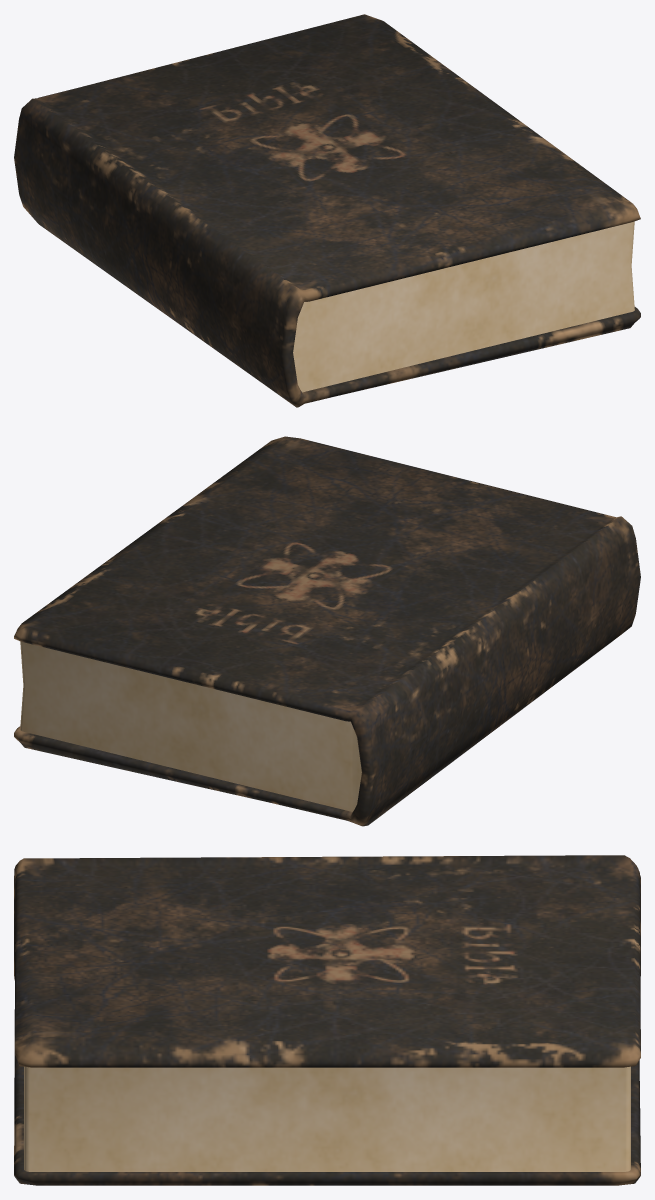
The model's file is Book_A.fbx.
The picture shows the model from 3 angles, top to bottom: view 1: azimuth 30°, elevation 25°; view 2: azimuth 150°, elevation 25°; view 3: azimuth 270°, elevation 25°; orthographic projection. The views are drawn at different scales.
Parts seen in each view (by area): view 1: Book_A; view 2: Book_A; view 3: Book_A.
Boxes of the visible parts, x1,y1,x2,y2 form: Book_A: (14,14,640,407); Book_A: (14,436,640,826); Book_A: (14,855,640,1185).
Size of the model in its own units: 0.2565 by 0.0843 by 0.3321.
